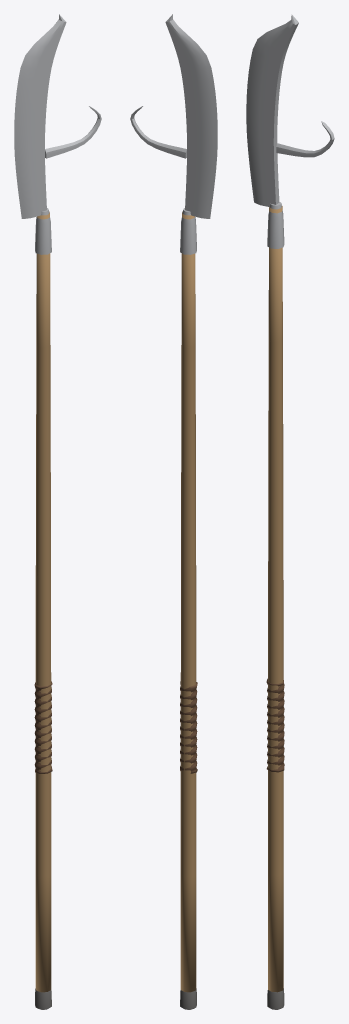
File: glaive-guisarme.glb
The picture shows the model from 3 angles, left to right: view 1: azimuth 30°, elevation 25°; view 2: azimuth 150°, elevation 25°; view 3: azimuth 330°, elevation 25°; orthographic projection.
Parts seen in each view (by area): view 1: glaive-guisarme; view 2: glaive-guisarme; view 3: glaive-guisarme.
Part boxes in pixels (bbox=[...]): glaive-guisarme: bbox=[14, 14, 101, 1009]; glaive-guisarme: bbox=[130, 14, 217, 1009]; glaive-guisarme: bbox=[246, 14, 334, 1009].
Bounding box in the file's own units: 0.5192 × 5.68 × 0.0924.
